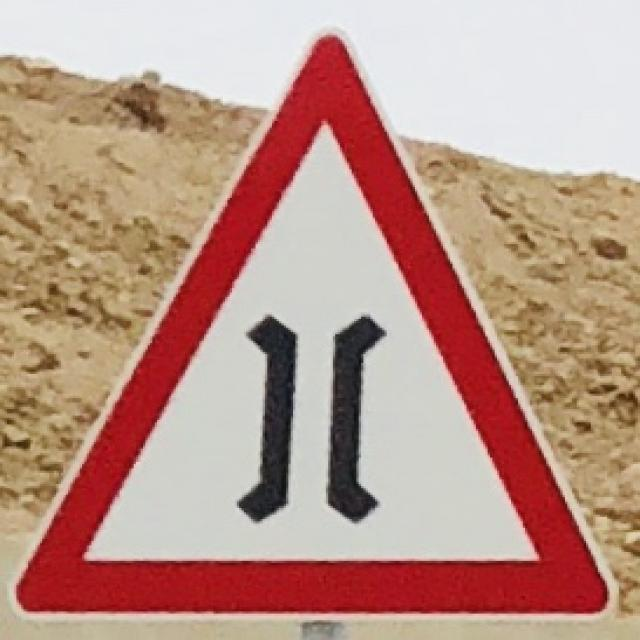narrow bridge ahead: (22, 38, 607, 618)
